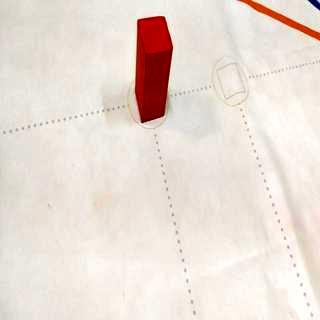redbox: (134, 15, 174, 123)
